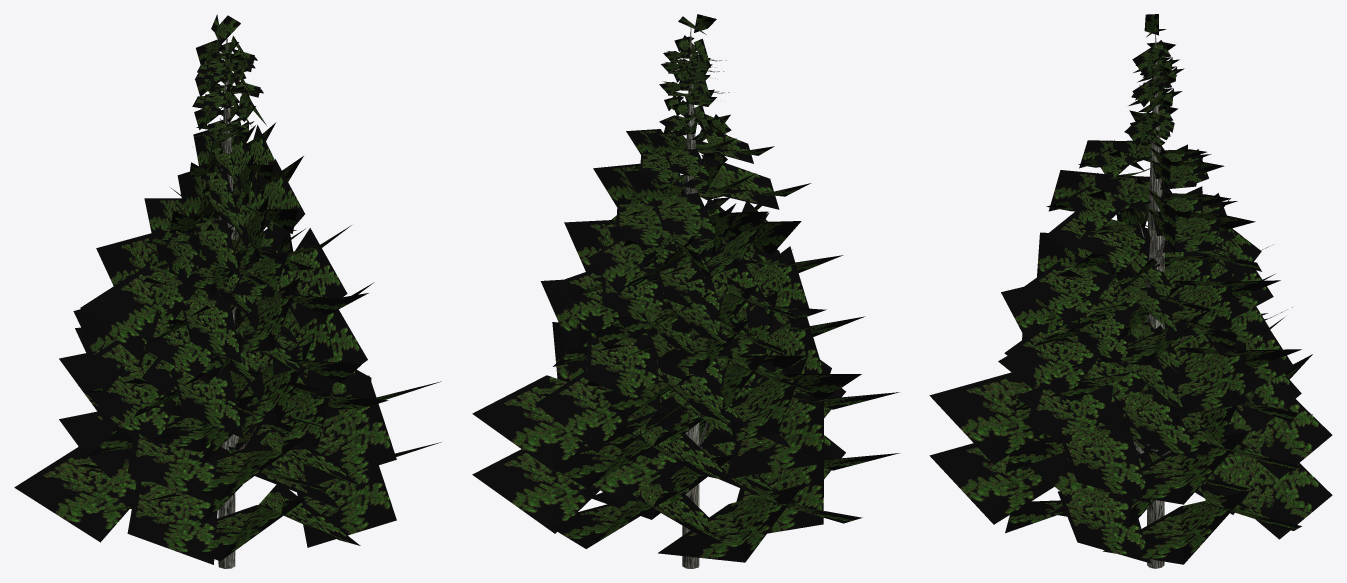
File: pine_tree_lite.dae
3 renders of one model, left to right at view 1: azimuth 30°, elevation 25°; view 2: azimuth 150°, elevation 25°; view 3: azimuth 270°, elevation 25°, orthographic.
Visible parts, largest first — view 1: pine_tree_lite; view 2: pine_tree_lite; view 3: pine_tree_lite.
Part boxes in pixels (bbox=[...]): pine_tree_lite: bbox=[14, 14, 441, 568]; pine_tree_lite: bbox=[472, 14, 899, 568]; pine_tree_lite: bbox=[929, 14, 1332, 568].
Bounding box in the file's own units: 1.38 × 1.32 × 1.97.
Materials: 2 (2 with a texture image).
